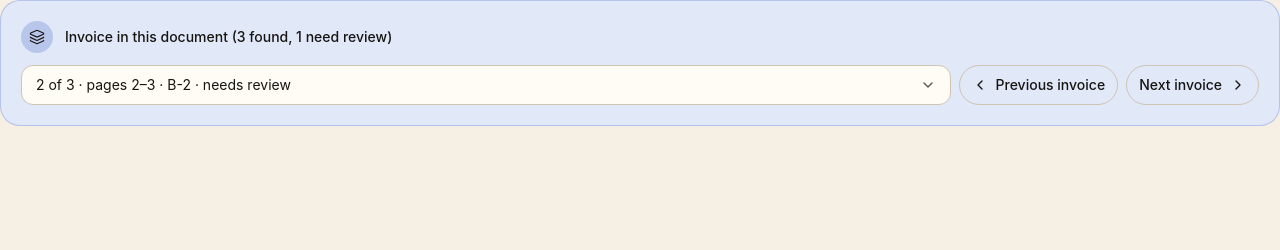
Scenario: invoice switcher › lists invoices with pages and moves between them
This screenshot has width=1280, height=250.
Later steps or results of the test are not shown.
Expected: the dropdown named "3 found, 1 need review" reads "2 of 3 · pages 2–3 · B-2 · needs review", left=21, top=65, right=950, bottom=105
Click the button "Next invoice". click: (1193, 85)
box: left=1126, top=65, right=1259, bottom=105
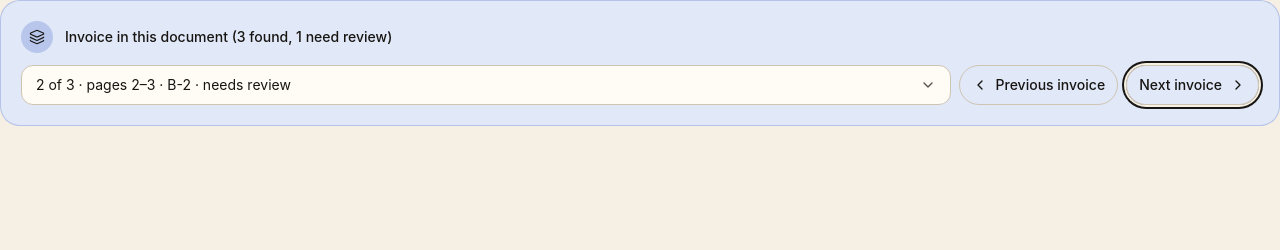
Click the button "Previous invoice". click: (1038, 85)
box: left=958, top=65, right=1118, bottom=105
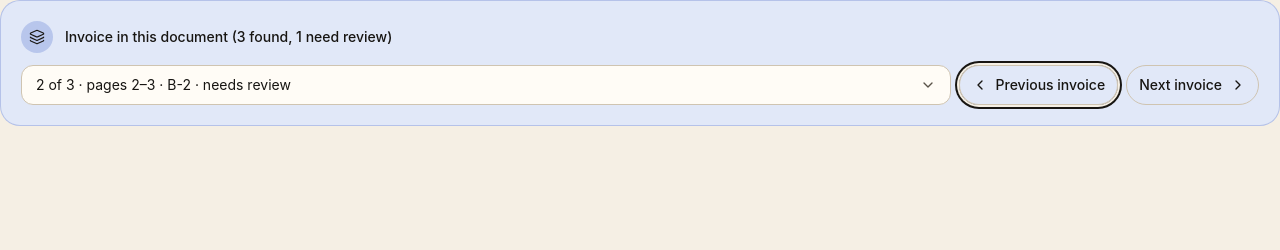
// The custom select opens a themed menu with the same options.
Click the dropdown named "3 found, 1 need review". click: (163, 84)
box: left=21, top=65, right=950, bottom=105
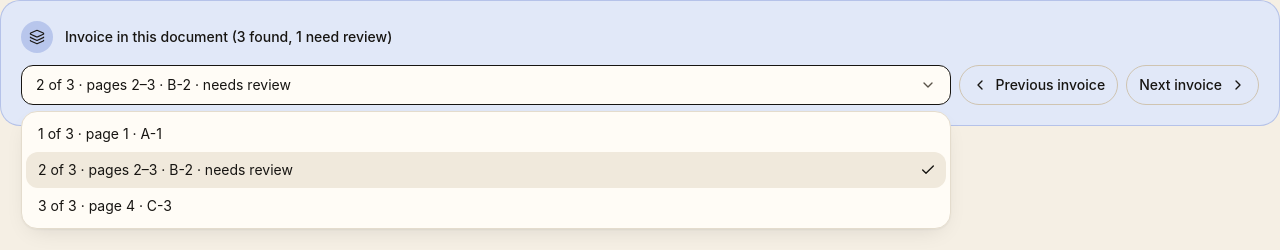
Result: the option "1 of 3 · page 1 · A-1" is shown at left=38, top=125, right=162, bottom=142
